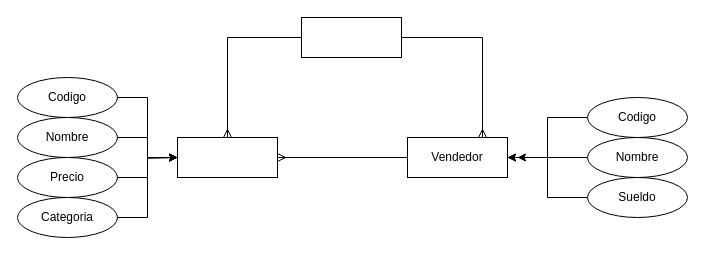
This 705x255 diagram has some shape labels left out. Each missing label, with the centre of its shape:
"Producto" goes at point (227, 157).
"Tienda" goes at point (351, 37).
